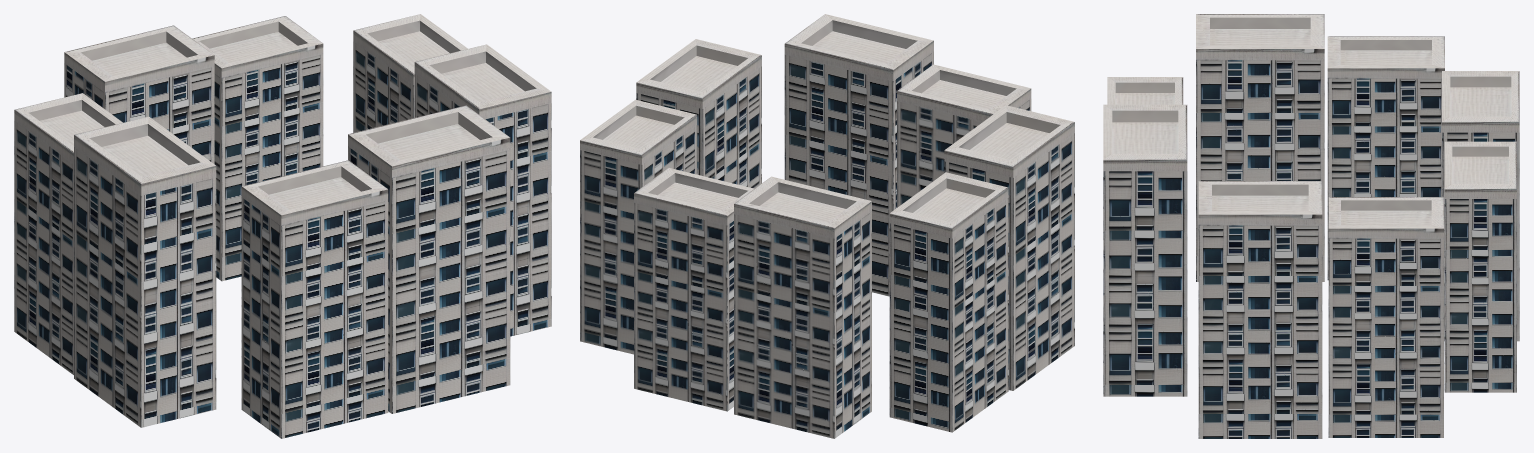
Rendered from Buildings.fbx.
3 views of the same model, side by side, from view 1: azimuth 30°, elevation 25°; view 2: azimuth 150°, elevation 25°; view 3: azimuth 270°, elevation 25° (orthographic). The views are drawn at different scales.
Parts seen in each view (by area): view 1: Building 001.007, Building 001.001, Building 001, Building 001.002, Building 001.005, Building 001.006, Building 001.003, Building 001.004; view 2: Building 001.003, Building 001.006, Building 001.002, Building 001, Building 001.007, Building 001.004, Building 001.005, Building 001.001; view 3: Building 001.005, Building 001.004, Building 001, Building 001.007, Building 001.006, Building 001.002, Building 001.003, Building 001.001.
Part boxes in pixels (bbox=[...]): Building 001.007: bbox=[74, 116, 216, 427]; Building 001.001: bbox=[241, 160, 388, 438]; Building 001: bbox=[348, 105, 510, 413]; Building 001.002: bbox=[192, 16, 323, 281]; Building 001.005: bbox=[414, 44, 551, 336]; Building 001.006: bbox=[14, 93, 122, 374]; Building 001.003: bbox=[64, 25, 214, 164]; Building 001.004: bbox=[353, 14, 467, 132]; Building 001.003: bbox=[734, 176, 871, 438]; Building 001.006: bbox=[889, 172, 1008, 432]; Building 001.002: bbox=[634, 168, 754, 411]; Building 001: bbox=[784, 14, 933, 296]; Building 001.007: bbox=[944, 105, 1074, 390]; Building 001.004: bbox=[580, 99, 697, 354]; Building 001.005: bbox=[636, 39, 761, 188]; Building 001.001: bbox=[897, 64, 1031, 207]; Building 001.005: bbox=[1198, 181, 1322, 438]; Building 001.004: bbox=[1328, 197, 1443, 437]; Building 001: bbox=[1103, 104, 1187, 396]; Building 001.007: bbox=[1196, 14, 1324, 281]; Building 001.006: bbox=[1327, 36, 1444, 280]; Building 001.002: bbox=[1444, 141, 1516, 392]; Building 001.003: bbox=[1442, 71, 1519, 341]; Building 001.001: bbox=[1107, 77, 1183, 104].
Bounding box in the file's own units: 68.47 × 39.36 × 62.77.
